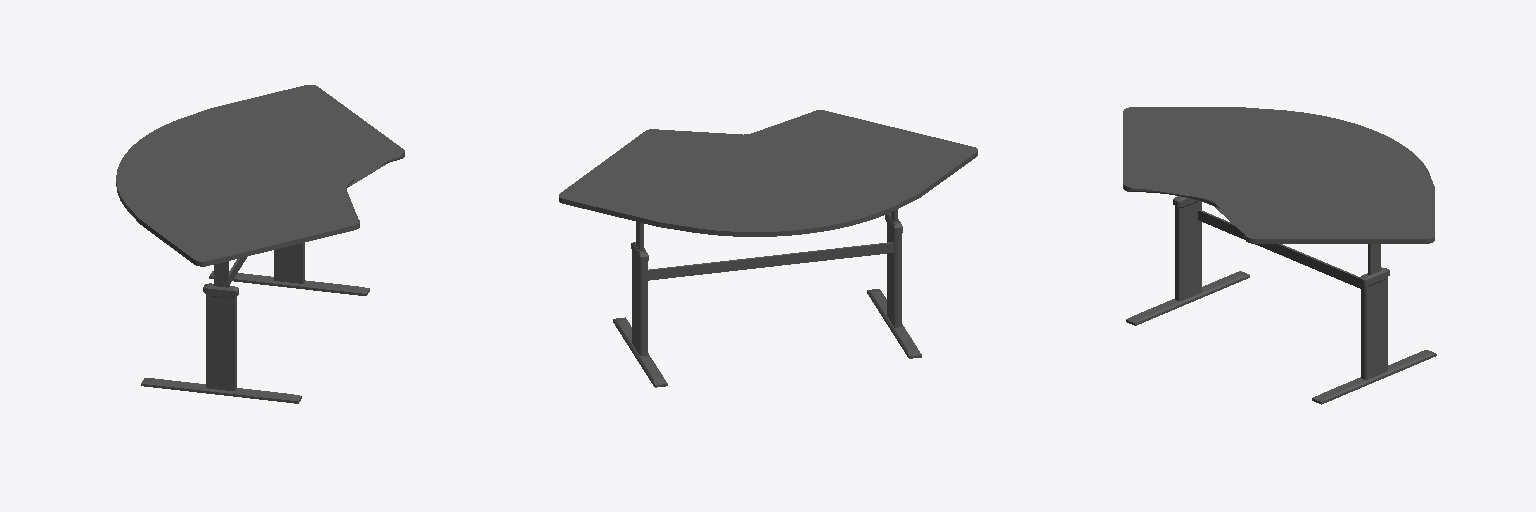
File: table_02.obj
3 views of the same model, side by side, from view 1: azimuth 30°, elevation 25°; view 2: azimuth 150°, elevation 25°; view 3: azimuth 270°, elevation 25° (orthographic).
Visible parts, largest first — view 1: polySurface2 group3, group3 polySurface4, group3 polySurface6; view 2: polySurface2 group3, group3 pCube7, group3 polySurface6, group3 polySurface4; view 3: polySurface2 group3, group3 polySurface6, group3 polySurface4, group3 pCube7.
Part boxes in pixels (left/top/right/bottom): polySurface2 group3: left=116, top=85, right=404, bottom=266; group3 polySurface4: left=141, top=283, right=301, bottom=403; group3 polySurface6: left=209, top=243, right=369, bottom=295; polySurface2 group3: left=559, top=110, right=977, bottom=236; group3 pCube7: left=648, top=242, right=893, bottom=280; group3 polySurface6: left=613, top=242, right=667, bottom=387; group3 polySurface4: left=867, top=213, right=921, bottom=358; polySurface2 group3: left=1123, top=107, right=1434, bottom=243; group3 polySurface6: left=1312, top=267, right=1436, bottom=404; group3 polySurface4: left=1126, top=196, right=1249, bottom=325; group3 pCube7: left=1198, top=210, right=1360, bottom=288.
Size of the model in its own units: 1.15 by 0.6752 by 1.15.